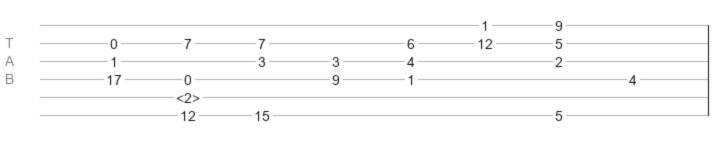0: (110, 36, 118, 46), (184, 72, 192, 82)
1: (110, 54, 118, 64), (407, 72, 415, 82), (481, 18, 489, 28)
12: (180, 108, 196, 118), (477, 36, 493, 46)
15: (254, 108, 270, 118)
17: (106, 72, 122, 82)
2: (555, 54, 563, 64)
3: (258, 54, 266, 64), (332, 54, 340, 64)
4: (407, 54, 415, 64), (629, 72, 637, 82)
5: (555, 108, 563, 118), (555, 36, 563, 46)
6: (407, 36, 415, 46)
7: (184, 36, 192, 46), (258, 36, 266, 46)
9: (332, 72, 340, 82), (555, 18, 563, 28)
harmonic: (176, 90, 200, 100)
